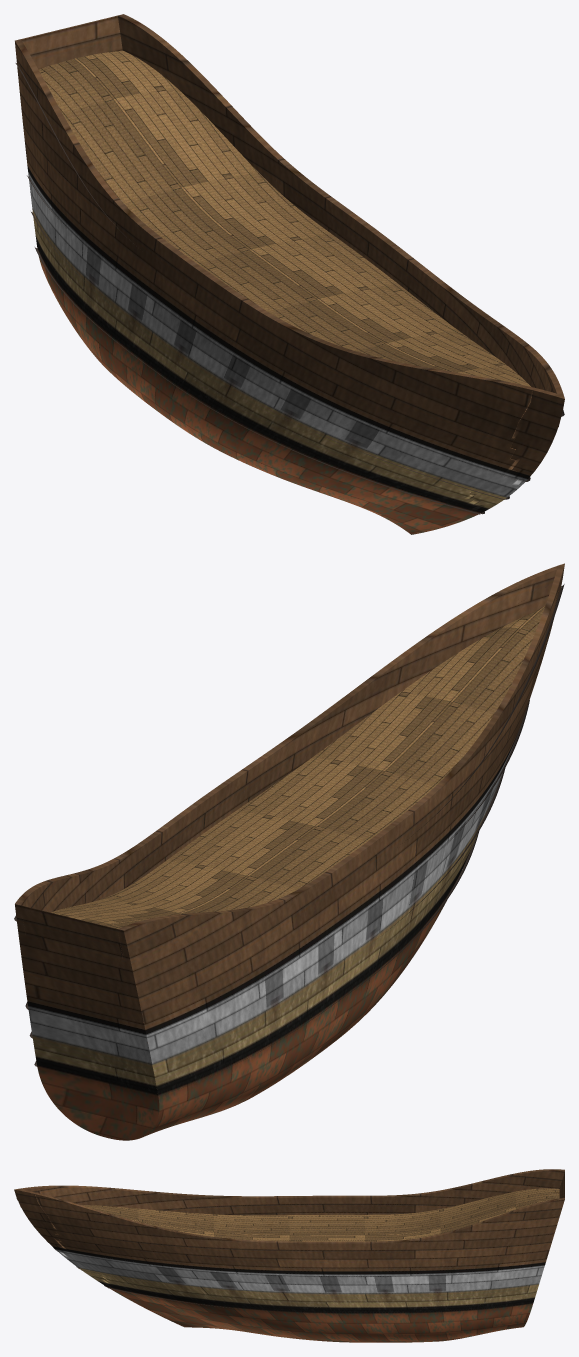
File: frigate_hull.glb
3 renders of one model, top to bottom at view 1: azimuth 30°, elevation 25°; view 2: azimuth 150°, elevation 25°; view 3: azimuth 270°, elevation 25°, orthographic. The views are drawn at different scales.
Visible parts, largest first — view 1: hull, deck, team, trim; view 2: hull, deck, team, trim; view 3: hull, deck, team.
Boxes of the visible parts, x1,y1,x2,y2 form: hull: [15, 14, 564, 534]; deck: [38, 50, 530, 386]; team: [28, 172, 526, 497]; trim: [15, 63, 564, 514]; hull: [15, 563, 564, 1140]; deck: [51, 606, 545, 928]; team: [146, 744, 513, 1064]; trim: [14, 584, 564, 1096]; hull: [14, 1169, 564, 1342]; deck: [81, 1188, 559, 1241]; team: [56, 1249, 544, 1293].
Size of the model in its own units: 3.4 by 4.31 by 14.6.
Materials: 4 (3 with a texture image).
